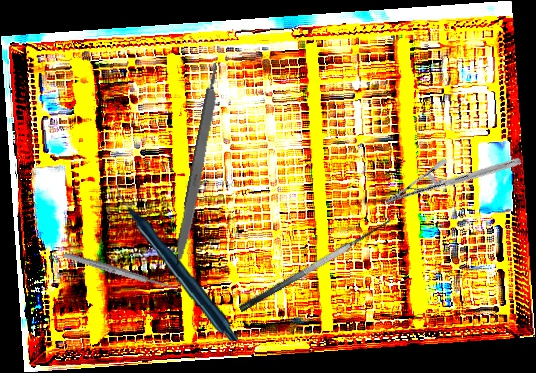Handpiece: (117, 180, 238, 345)
Needle Holder: (382, 110, 523, 253)
Scalpel Handle: (172, 59, 226, 269)
Spatula Surgical: (231, 208, 396, 314)
Surgical Spoon: (62, 250, 182, 295)
